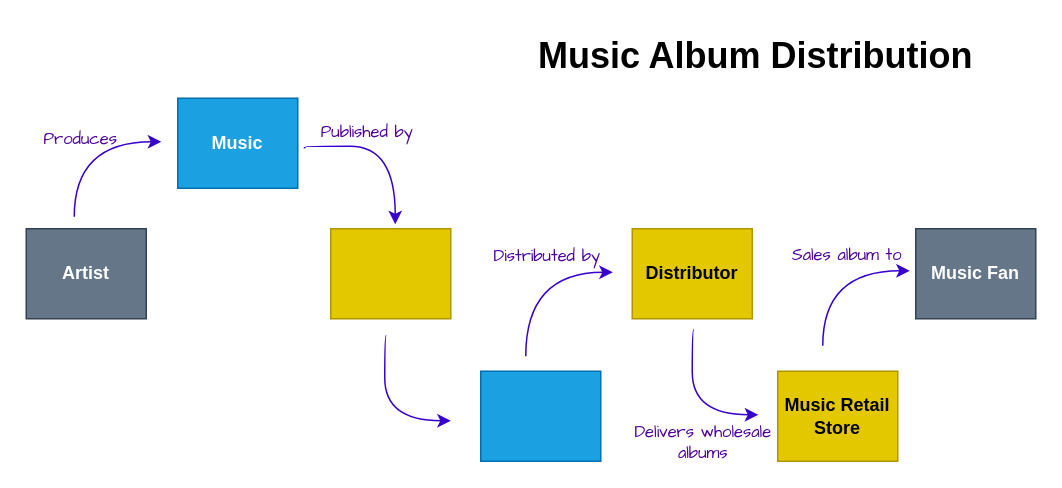
Some shapes in this 1062 by 488 pixel diagram are drawn without their labels. The shapes that lost their labels are listed below. From the top down, each one's centre as x and y in pixels, then its label:
At pixel 390 273: "Record Label".
At pixel 540 415: "Wholesale albums".
